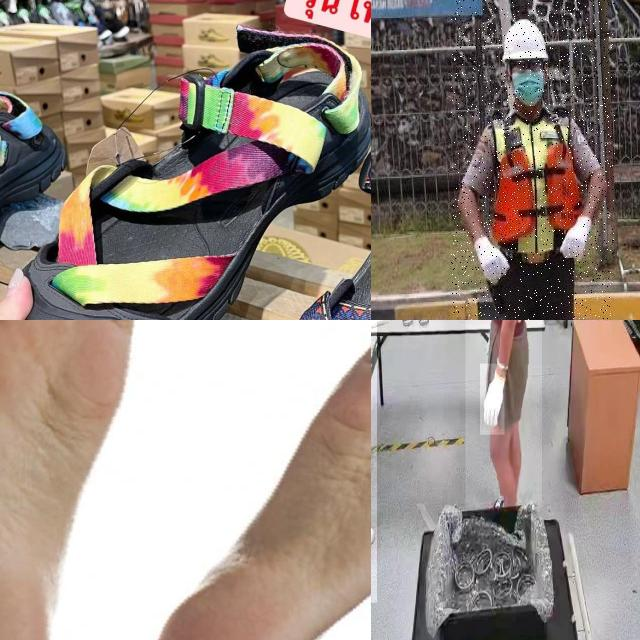Barefoots: (144, 320, 371, 640), (0, 320, 207, 640)
Sandals: (0, 5, 371, 320), (247, 85, 371, 320)
hand_glove: (480, 364, 505, 436)
head_helmet: (501, 17, 549, 64)
person: (451, 0, 615, 320), (465, 320, 542, 508)
vest: (493, 109, 582, 265)
